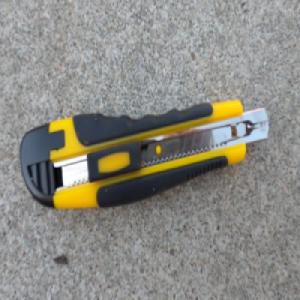Cutter: (19, 98, 270, 212)
